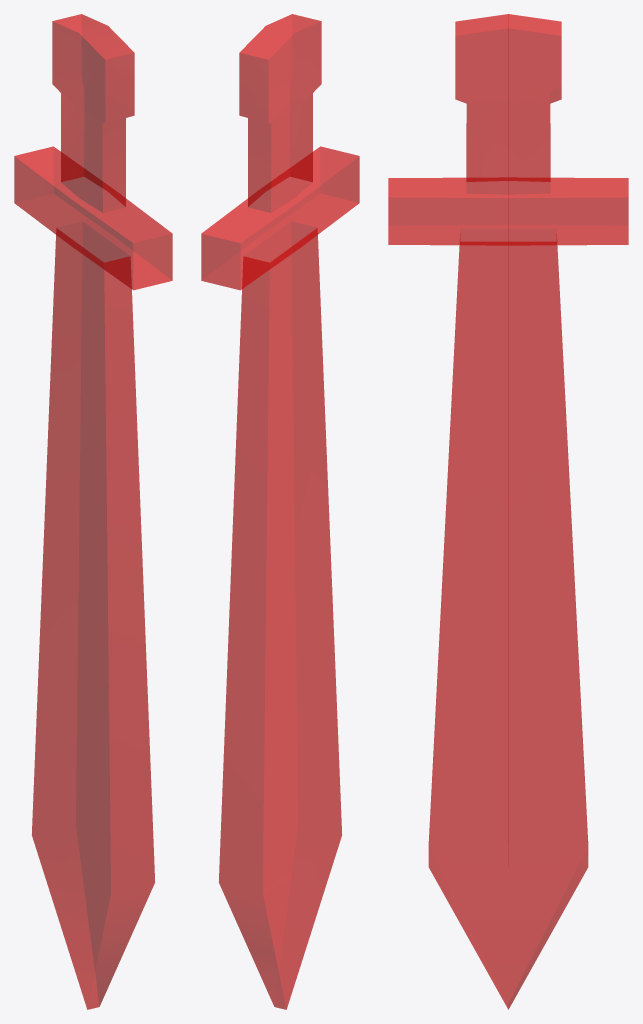
Rendered from Template_sword_war_transparency.fbx.
3 views of the same model, side by side, from view 1: azimuth 30°, elevation 25°; view 2: azimuth 150°, elevation 25°; view 3: azimuth 270°, elevation 25° (orthographic).
Visible parts, largest first — view 1: pCube1; view 2: pCube1; view 3: pCube1.
Boxes of the visible parts, <box> form: pCube1: <box>14,14,172,1009</box>; pCube1: <box>201,14,359,1009</box>; pCube1: <box>388,14,628,1009</box>.
Size of the model in its own units: 0.7984 by 16.96 by 3.74.
